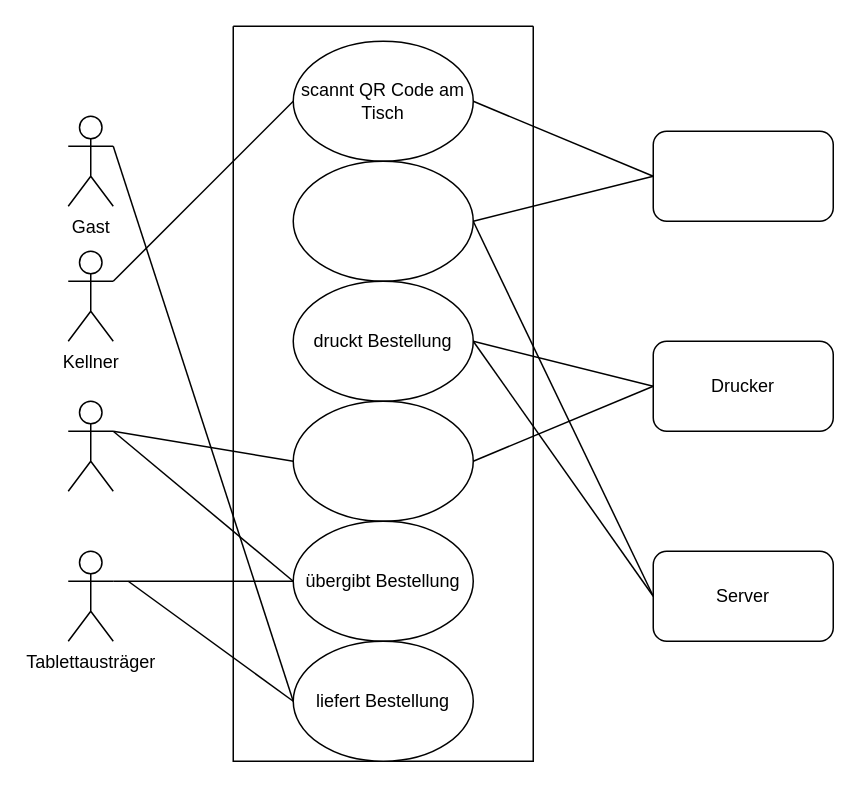
The diagram is 860 pixels wide and 788 high, and some of its shapes have lost their labels. Each missing label, with the box of its shape:
Koch: (67, 400, 113, 491)
nimmt Bestellung auf: (292, 400, 473, 521)
QR-Code Scanner: (652, 130, 833, 221)
schickt Bestellung: (292, 160, 473, 281)
